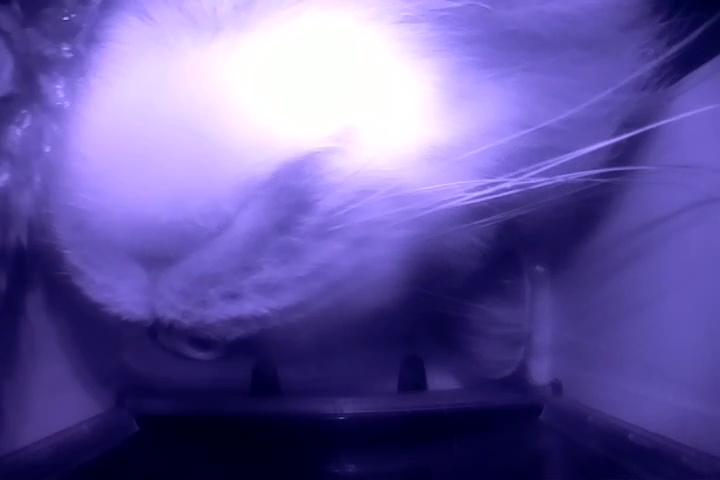Snout: (46, 141, 324, 368)
